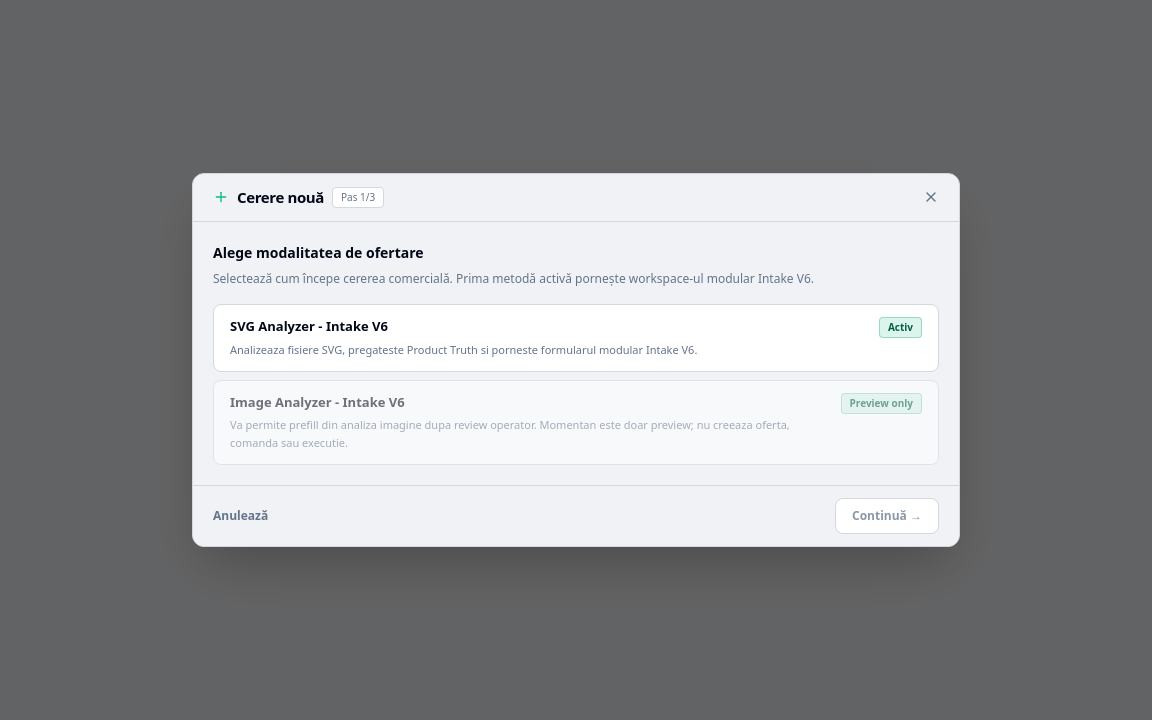
Test: NewIntakeDialog offer method and Product System template wizard › loads Product System templates from availability API
Click the button "SVG Analyzer - Intake V6": click(309, 326) [213,304,939,372]
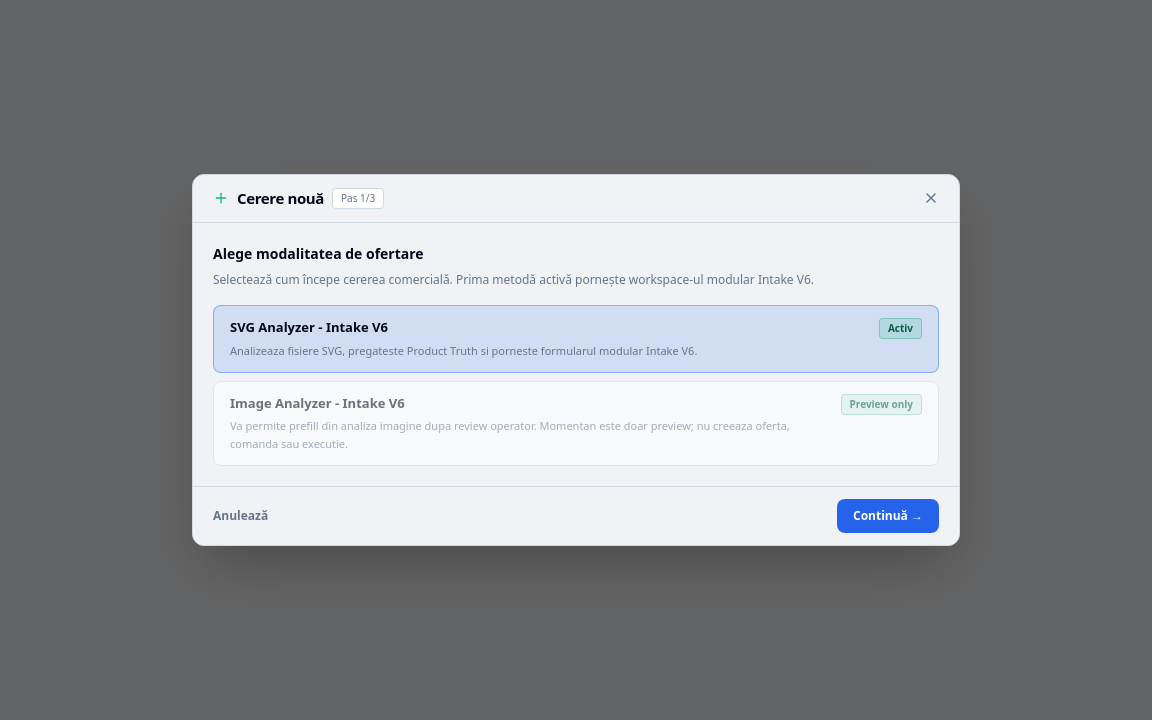
Click the button "Continuă →": click(888, 516) [837,499,939,533]
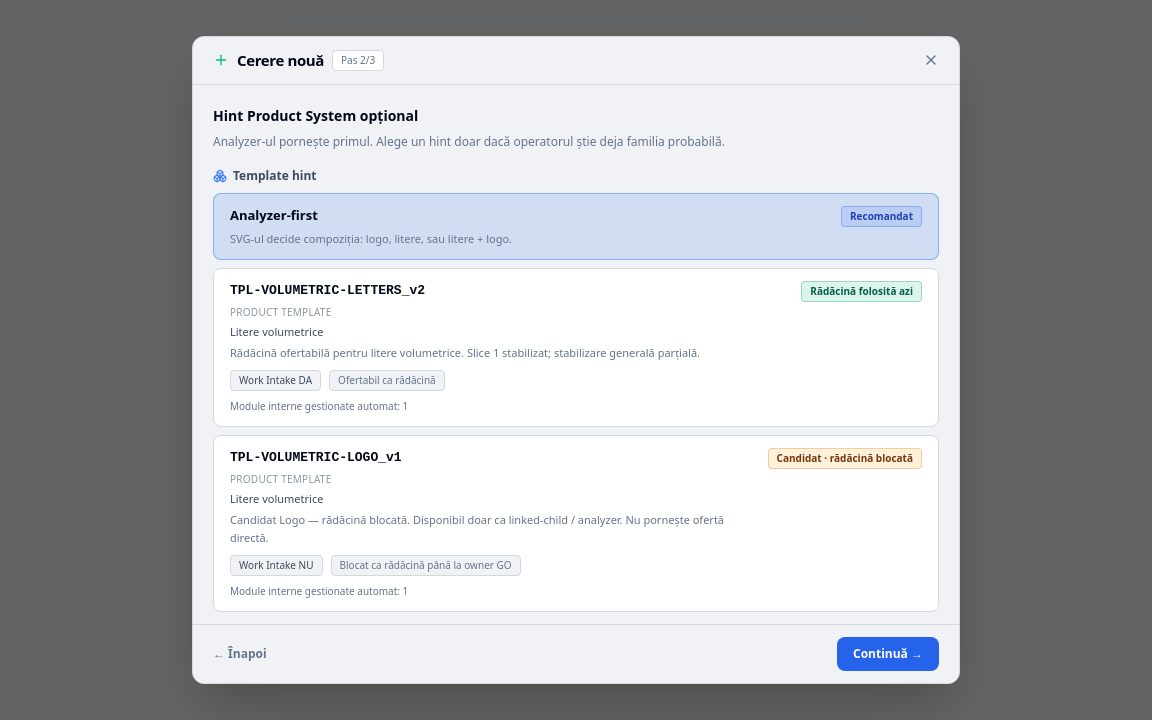
Expected: the heading "Template hint" is shown, [233,167,316,185]
